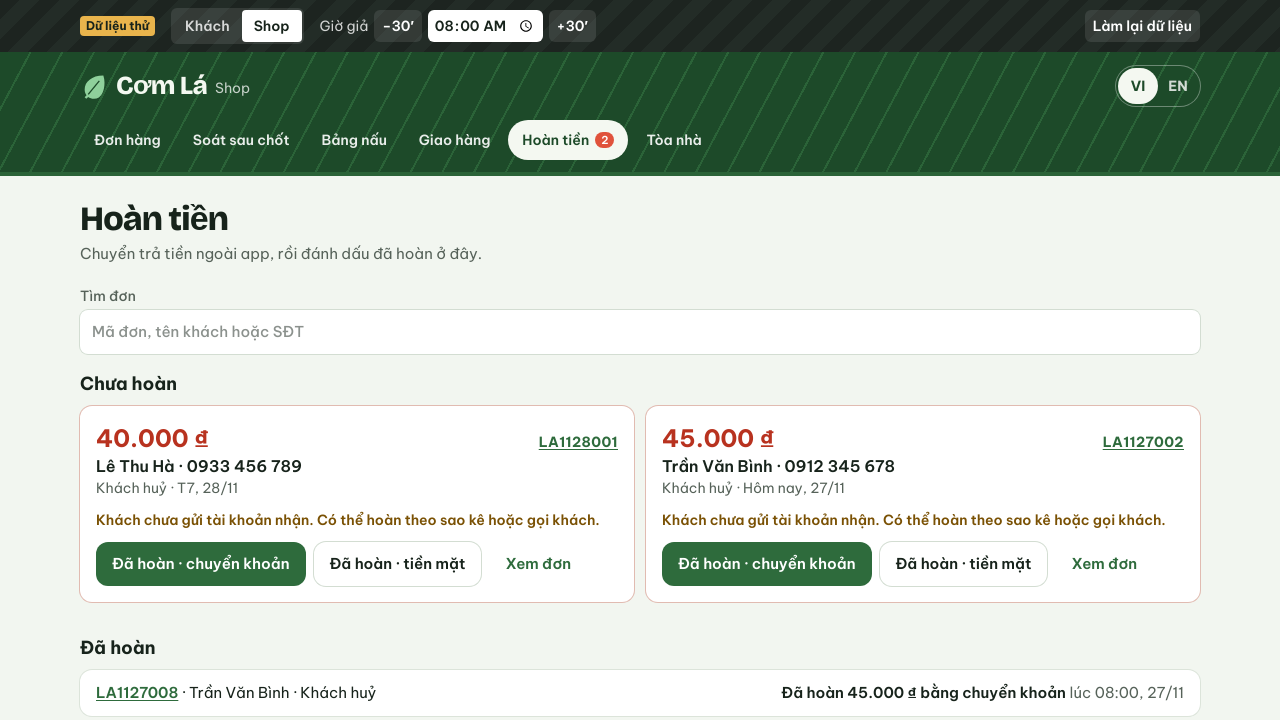
it: sorting and searching on the shop screens (CN-56) › AC48, CN-57: Refunds: one customer in both parts, newest first; no result says "No order matches"
This screenshot has width=1280, height=720.
Type "binh" into the search field labelled "Tìm đơn" at (640, 332), box [80,310,1200,354]
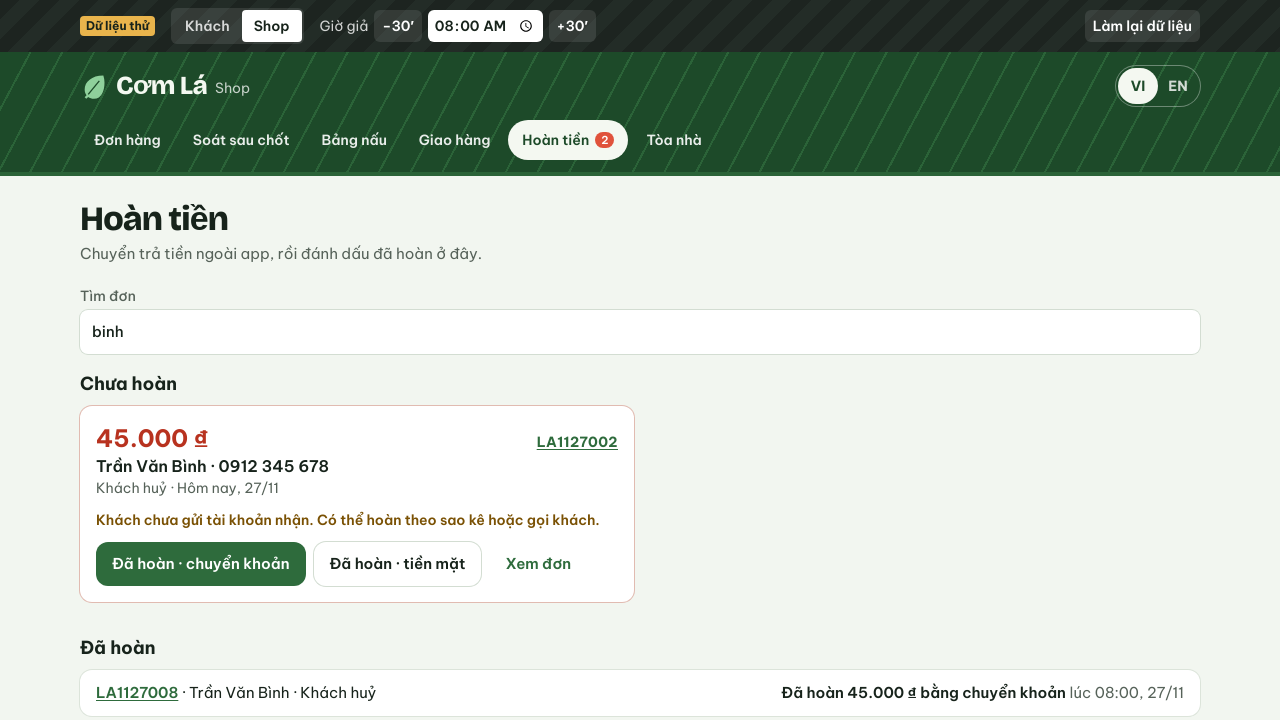
Expected: the heading "Chưa hoàn" is shown, [80,372,177,395]
Expected: the heading "Đã hoàn" is shown, [80,636,156,659]
Replace the text in the search field labelled "Tìm đơn" with "zzz" at (640, 332), box [80,310,1200,354]
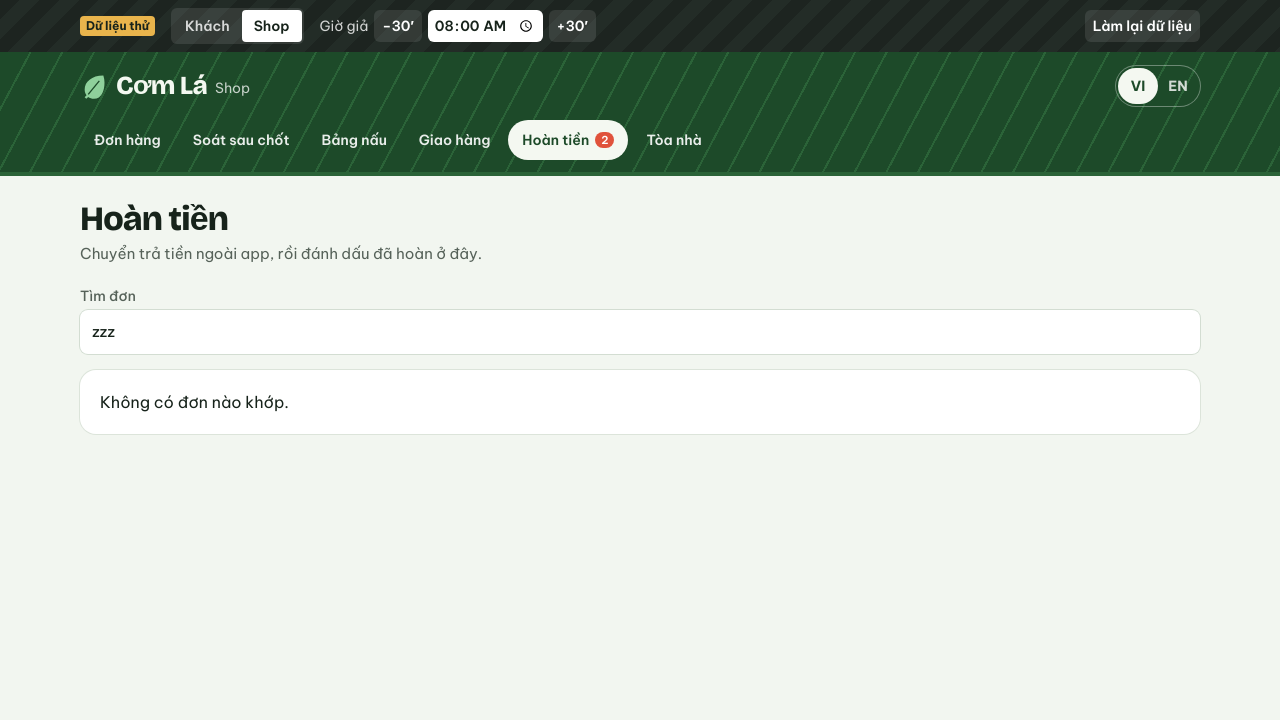
Expected: the text "Không có đơn nào khớp." is shown, [100,392,289,412]
